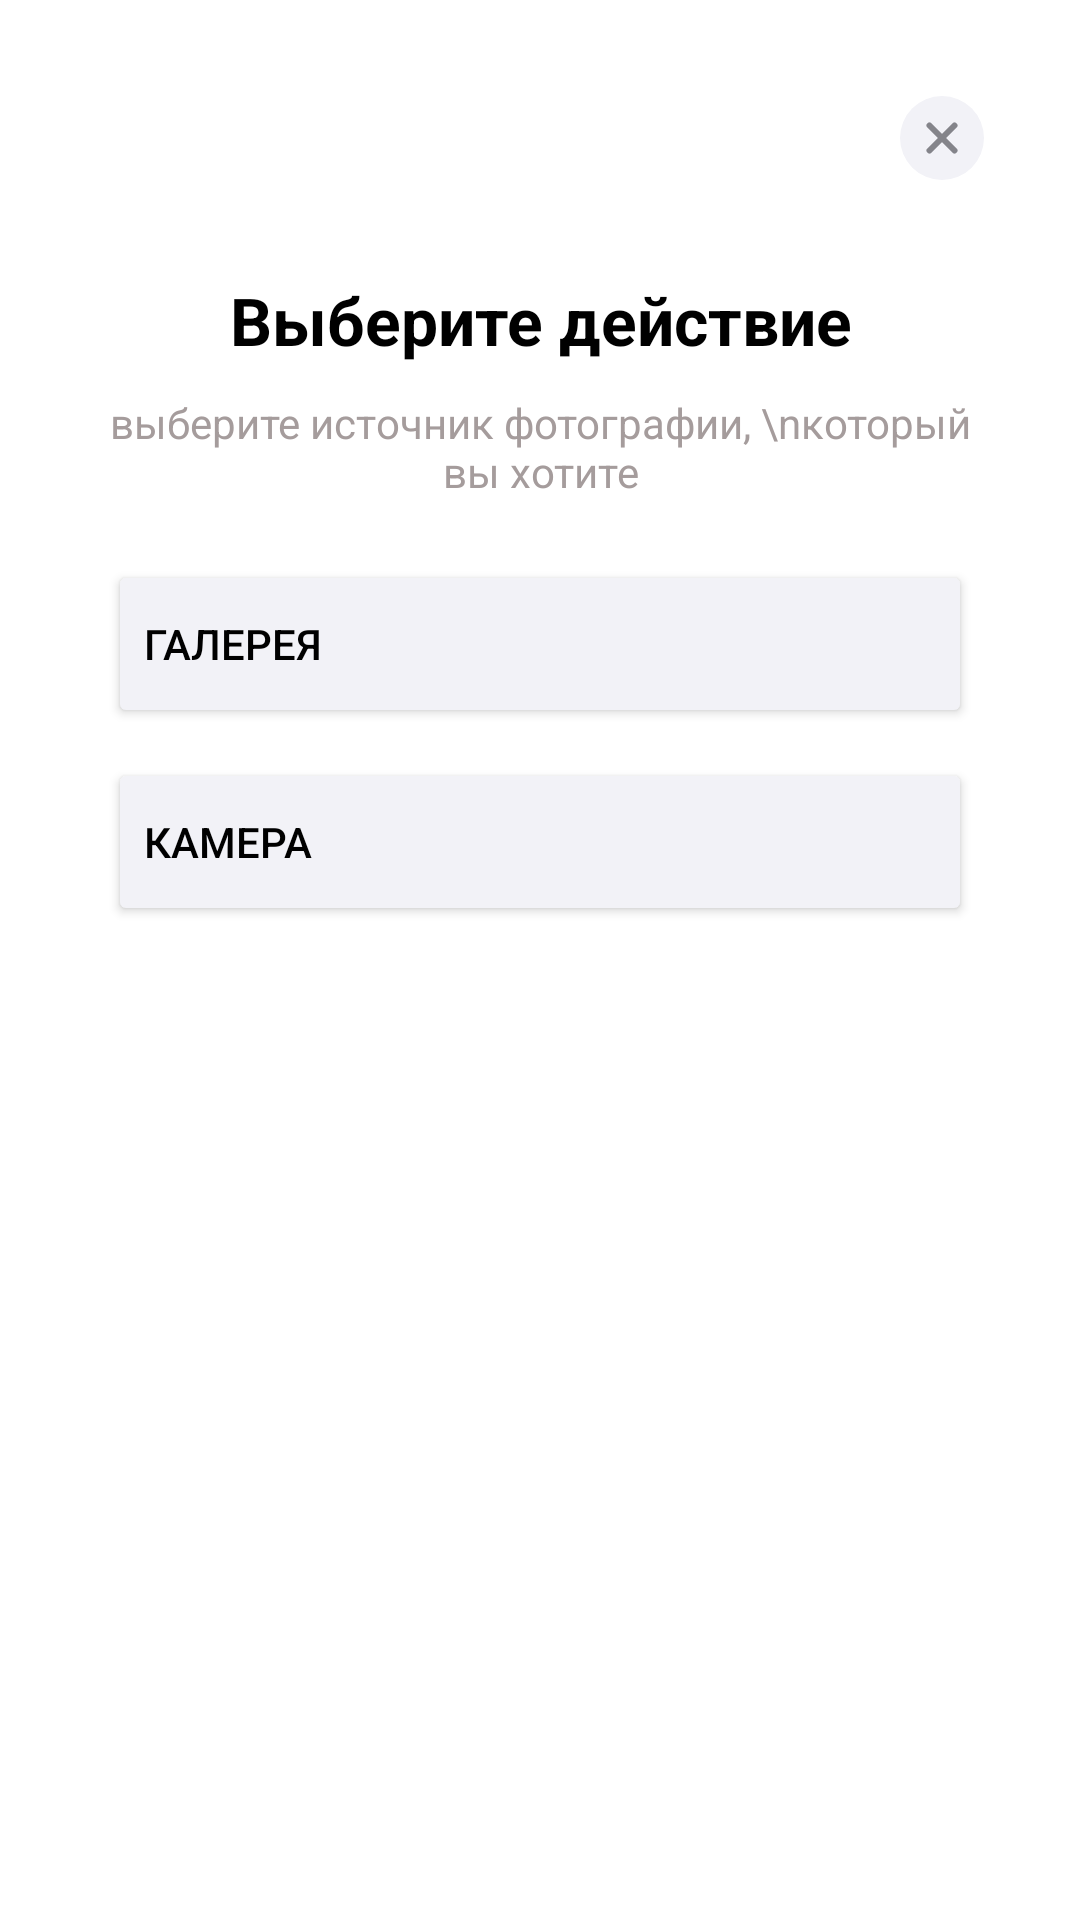

Screen size 1080px x 1920px. Icon name, then its center in pixels as (x=x, y=y):
close: (x=942, y=138)
